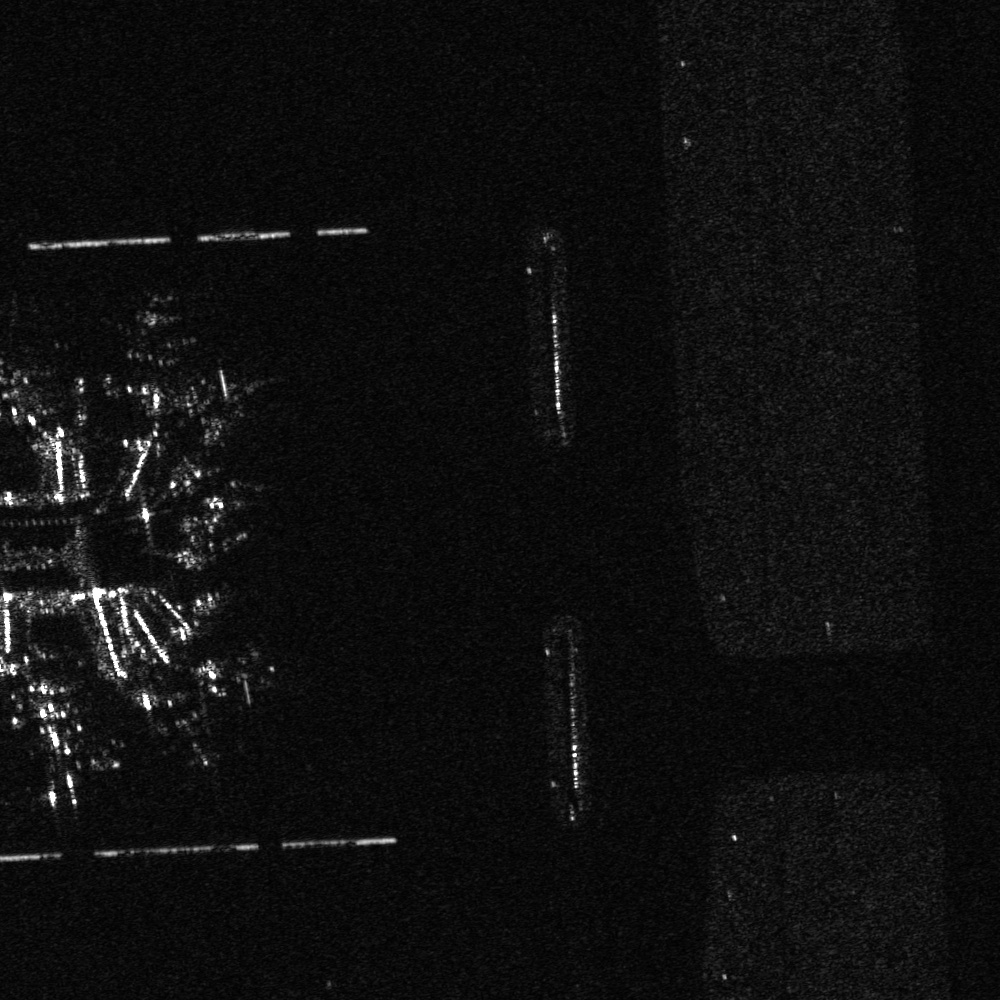A320/321: (15, 693, 97, 812), (104, 288, 204, 369), (191, 642, 296, 711)
Boeing737: (137, 684, 223, 781)
